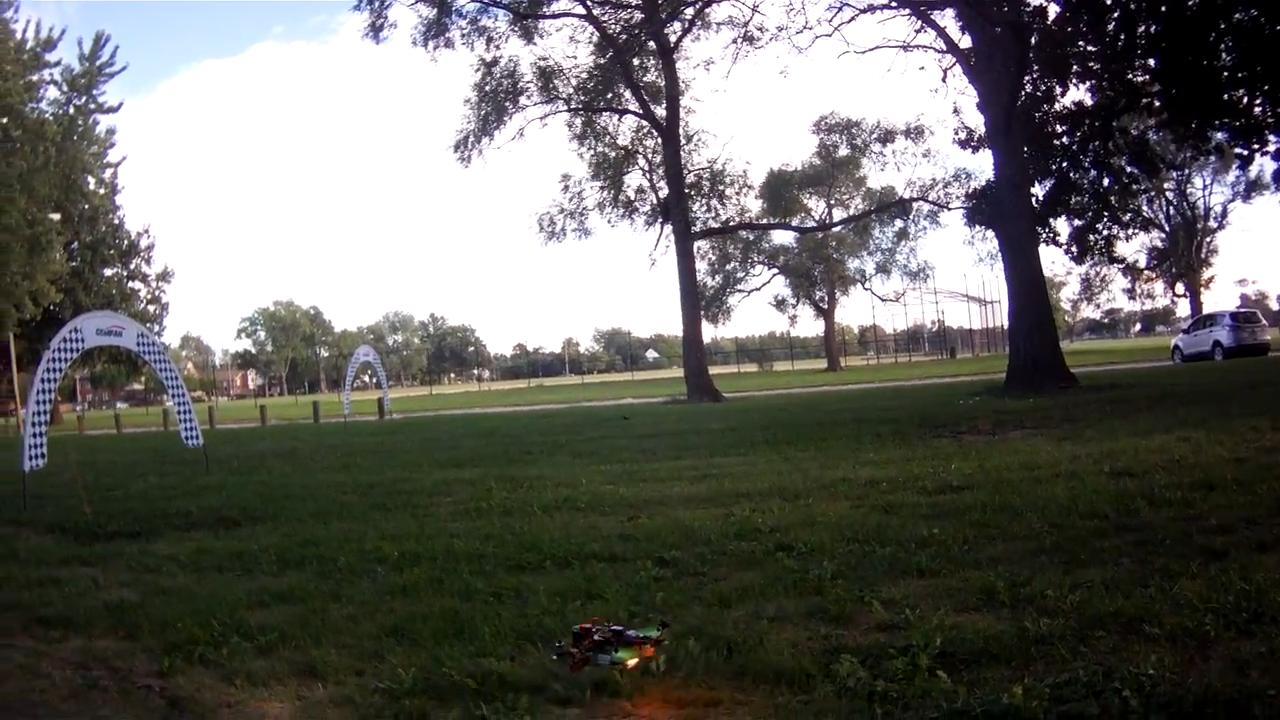gate: (18, 306, 205, 474), (336, 345, 395, 426)
